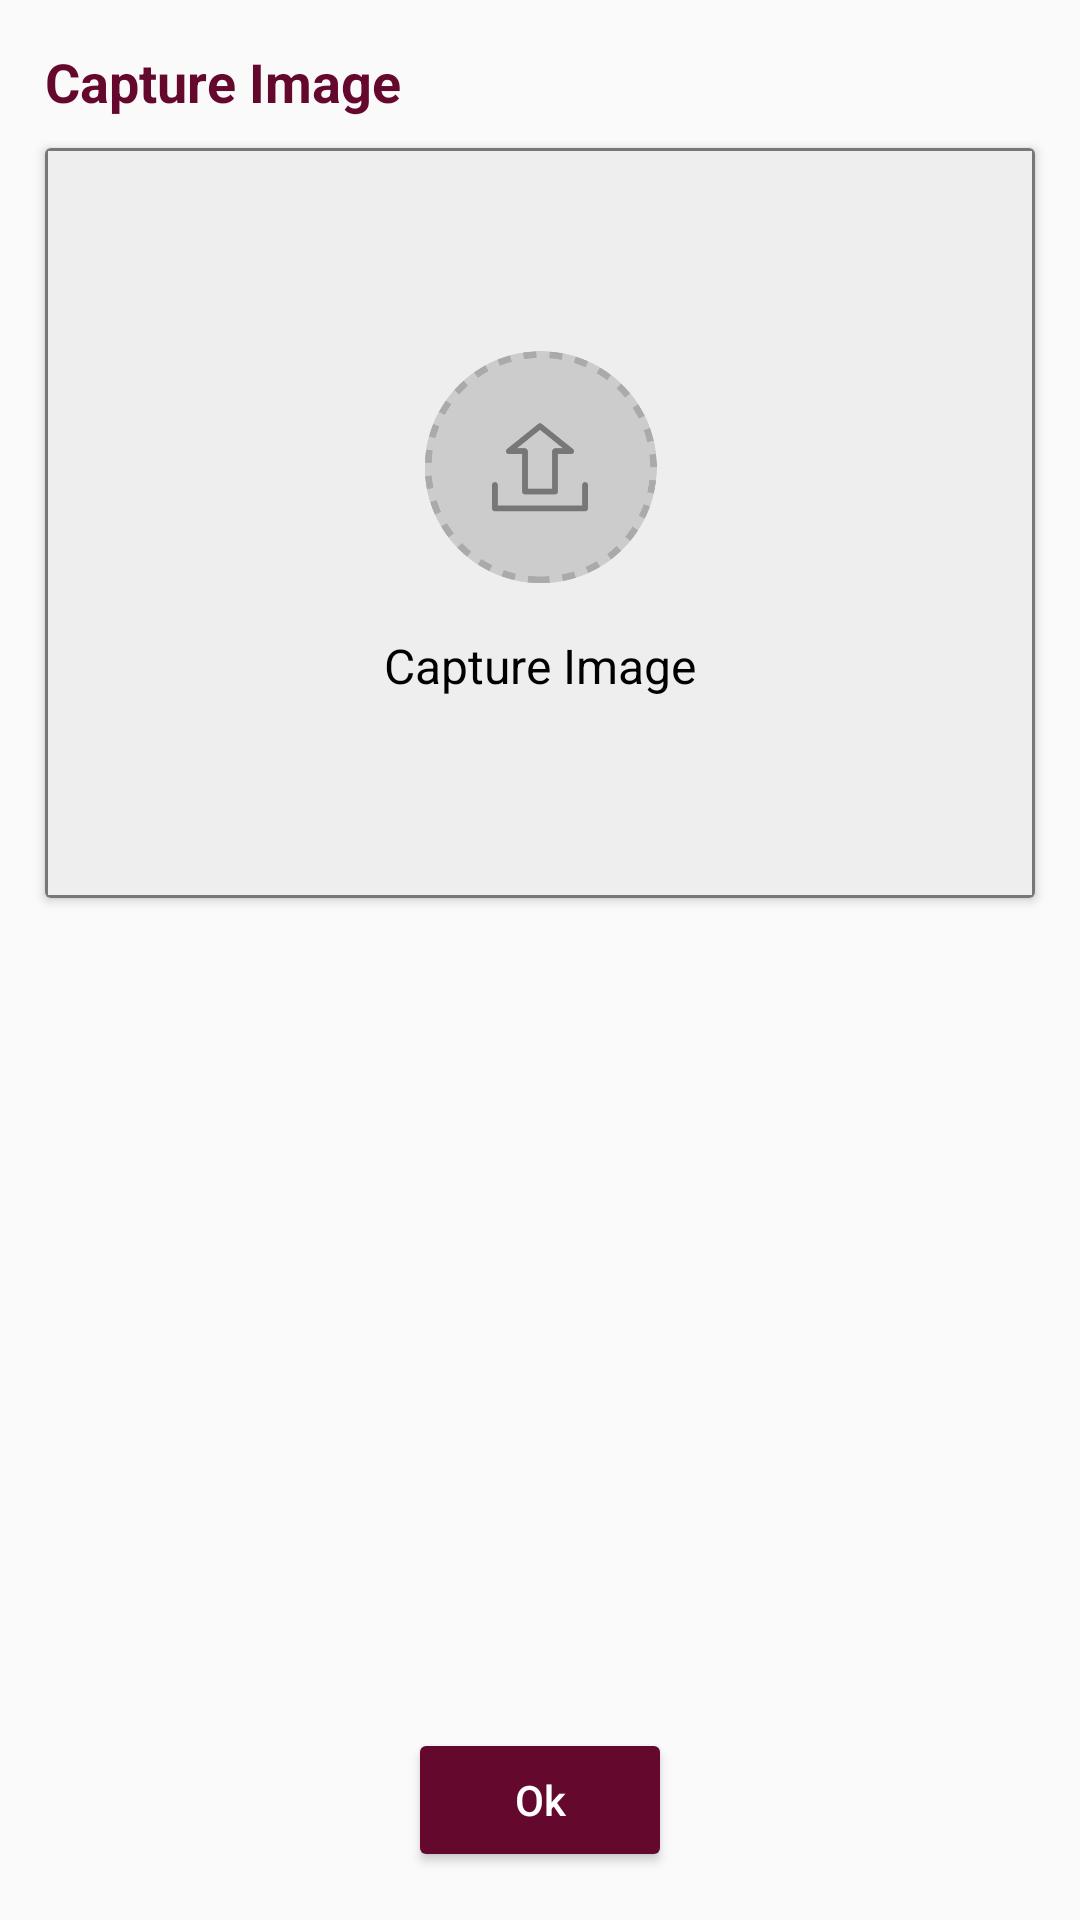

Icon bounding boxes for this 1080px x 1920px phone screenshot, format (x1, y1, x2, y2):
upload: (425, 351, 657, 583)
